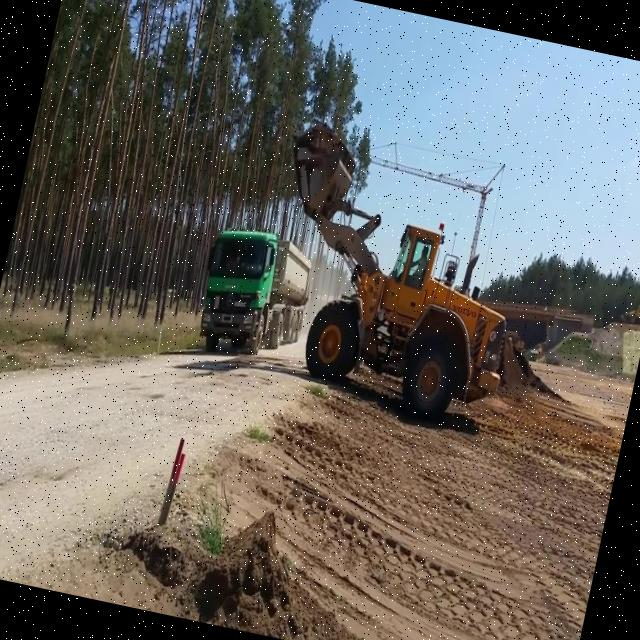Dump Truck: (190, 217, 320, 363)
Loader: (240, 124, 544, 436)
